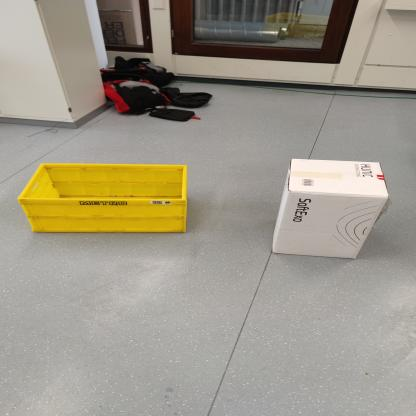box: (9, 148, 200, 250), (252, 147, 406, 273)
